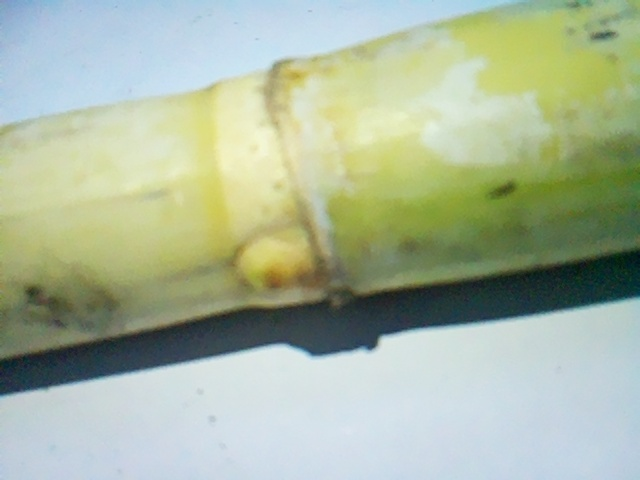Good Sugarcane: (10, 9, 635, 357)
Node: (190, 48, 364, 307)
